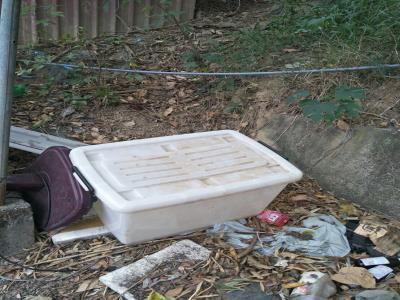box: (66, 127, 300, 248)
plastic_bag: (219, 209, 353, 260)
